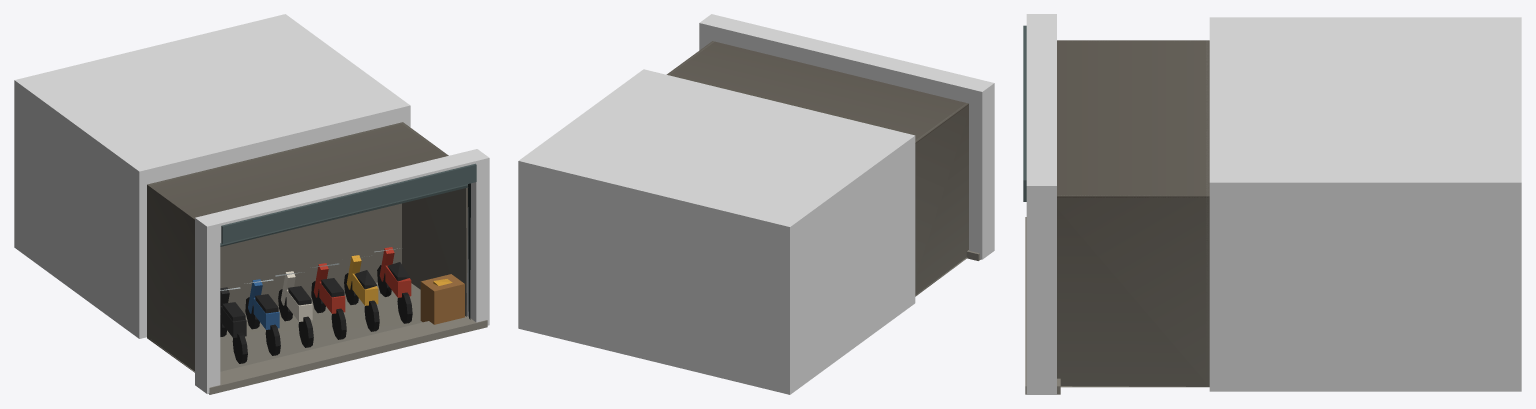
File: tret_gui_xe_60.glb
3 renders of one model, left to right at view 1: azimuth 30°, elevation 25°; view 2: azimuth 150°, elevation 25°; view 3: azimuth 270°, elevation 25°, orthographic. The views are drawn at different scales.
Parts seen in each view (by area): view 1: tret_gui_xe_60; view 2: tret_gui_xe_60; view 3: tret_gui_xe_60.
Boxes of the visible parts, left/top/right/bottom form: tret_gui_xe_60: left=14, top=14, right=489, bottom=394; tret_gui_xe_60: left=518, top=14, right=994, bottom=394; tret_gui_xe_60: left=1023, top=14, right=1521, bottom=394.
Bounding box in the file's own units: 6 × 3.42 × 7.35.
